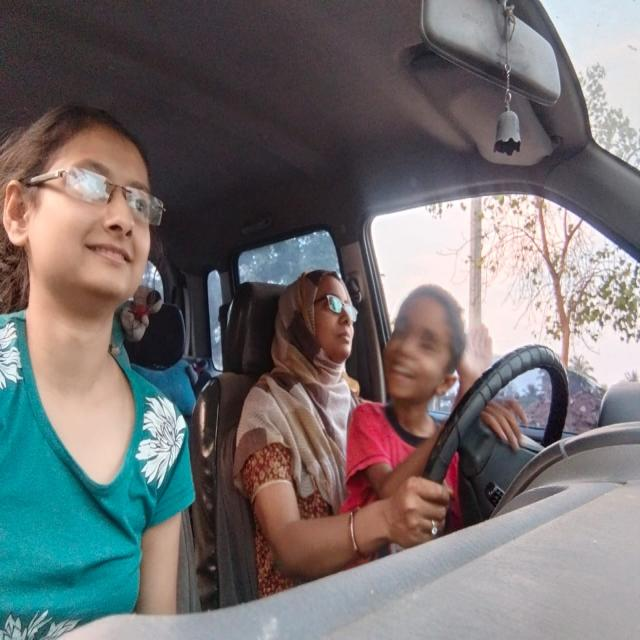child: (371, 283, 479, 421)
person: (5, 82, 168, 350), (280, 245, 364, 372)
